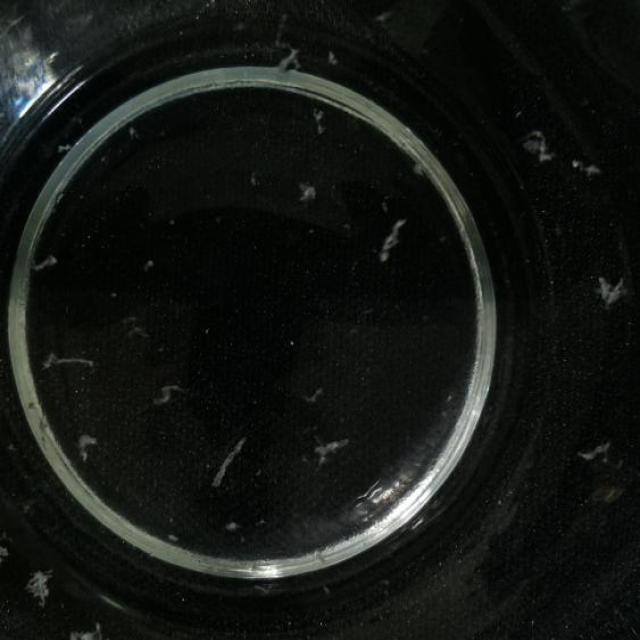fiber: (44, 342, 108, 380), (207, 429, 245, 490), (372, 208, 406, 264), (588, 279, 633, 315), (311, 429, 349, 471), (19, 247, 62, 280), (22, 563, 52, 609), (578, 429, 610, 471), (525, 121, 553, 167), (74, 422, 101, 464), (294, 178, 328, 208), (573, 152, 604, 182), (150, 374, 179, 406), (275, 42, 304, 69), (306, 100, 326, 137), (70, 624, 116, 639), (323, 41, 344, 69), (0, 535, 10, 575), (0, 302, 9, 332)
